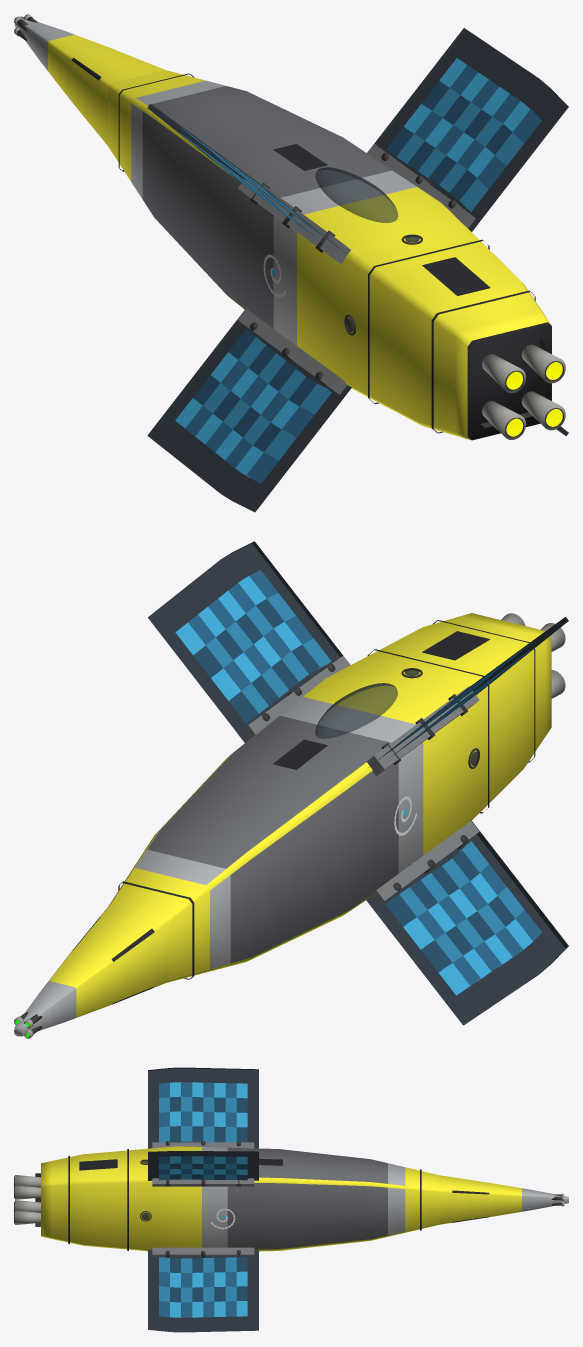
Rendered from Ship_Crosspanel_1.glb.
The picture shows the model from 3 angles, top to bottom: view 1: azimuth 30°, elevation 25°; view 2: azimuth 150°, elevation 25°; view 3: azimuth 270°, elevation 25°; orthographic projection. The views are drawn at different scales.
Visible parts, largest first — view 1: Fuselage_SquareBody, SolarPanelWing_LowerLeftRidge_RectangularPhotovoltaicGrid, SolarPanelWing_TopRightRidge_RectangularPhotovoltaicGrid, Nose_SquareTaperedForwardSection, Canopy_DorsalLowSquareBubble, SolarPanelWing_TopLeftRidge_RootHingeClamp, SolarPanelWing_LowerLeftRidge_RootHingeClamp, SolarPanelWing_TopLeftRidge_RectangularPhotovoltaicGrid, HullAccessPanel_TopAft, SolarPanelWing_TopRightRidge_RootHingeClamp, EngineEmitter, EngineBell_UpperRight_TaperedSquareClusterNozzle (+4 smaller); view 2: Fuselage_SquareBody, SolarPanelWing_LowerLeftRidge_RectangularPhotovoltaicGrid, SolarPanelWing_TopRightRidge_RectangularPhotovoltaicGrid, Nose_SquareTaperedForwardSection, Canopy_DorsalLowSquareBubble, SolarPanelWing_TopLeftRidge_RootHingeClamp, SolarPanelWing_LowerLeftRidge_RootHingeClamp, SolarPanelWing_TopLeftRidge_RectangularPhotovoltaicGrid, SolarPanelWing_TopRightRidge_RootHingeClamp, HullAccessPanel_TopAft, HullAccessPanel_TopForward; view 3: Fuselage_SquareBody, SolarPanelWing_LowerRightRidge_RectangularPhotovoltaicGrid, SolarPanelWing_TopLeftRidge_RectangularPhotovoltaicGrid, Nose_SquareTaperedForwardSection, SolarPanelWing_TopRightRidge_RectangularPhotovoltaicGrid, SolarPanelWing_LowerRightRidge_RootHingeClamp, SolarPanelWing_TopRightRidge_RootHingeClamp, SolarPanelWing_TopLeftRidge_RootHingeClamp, HullAccessPanel_TopAft.
Part boxes in pixels (<box>): Fuselage_SquareBody: <box>108,70,551,440</box>; SolarPanelWing_LowerLeftRidge_RectangularPhotovoltaicGrid: <box>147,309,351,512</box>; SolarPanelWing_TopRightRidge_RectangularPhotovoltaicGrid: <box>374,28,568,231</box>; Nose_SquareTaperedForwardSection: <box>14,16,164,145</box>; Canopy_DorsalLowSquareBubble: <box>315,167,397,222</box>; SolarPanelWing_TopLeftRidge_RootHingeClamp: <box>238,174,350,264</box>; SolarPanelWing_LowerLeftRidge_RootHingeClamp: <box>237,309,347,394</box>; SolarPanelWing_TopLeftRidge_RectangularPhotovoltaicGrid: <box>147,104,348,255</box>; HullAccessPanel_TopAft: <box>422,257,490,295</box>; SolarPanelWing_TopRightRidge_RootHingeClamp: <box>366,143,475,230</box>; EngineEmitter: <box>506,362,562,436</box>; EngineBell_UpperRight_TaperedSquareClusterNozzle: <box>521,344,565,383</box>; Fuselage_SquareBody: <box>108,613,551,982</box>; SolarPanelWing_LowerLeftRidge_RectangularPhotovoltaicGrid: <box>366,820,568,1025</box>; SolarPanelWing_TopRightRidge_RectangularPhotovoltaicGrid: <box>148,541,342,742</box>; Nose_SquareTaperedForwardSection: <box>14,904,168,1036</box>; Canopy_DorsalLowSquareBubble: <box>315,683,397,738</box>; SolarPanelWing_TopLeftRidge_RootHingeClamp: <box>366,686,479,776</box>; SolarPanelWing_LowerLeftRidge_RootHingeClamp: <box>370,821,479,906</box>; SolarPanelWing_TopLeftRidge_RectangularPhotovoltaicGrid: <box>368,617,568,767</box>; SolarPanelWing_TopRightRidge_RootHingeClamp: <box>239,655,350,742</box>; HullAccessPanel_TopAft: <box>422,631,490,660</box>; HullAccessPanel_TopForward: <box>273,739,327,769</box>; Fuselage_SquareBody: <box>41,1146,439,1251</box>; SolarPanelWing_LowerRightRidge_RectangularPhotovoltaicGrid: <box>148,1250,258,1332</box>; SolarPanelWing_TopLeftRidge_RectangularPhotovoltaicGrid: <box>148,1067,258,1148</box>; Nose_SquareTaperedForwardSection: <box>440,1175,568,1224</box>; SolarPanelWing_TopRightRidge_RectangularPhotovoltaicGrid: <box>148,1151,258,1180</box>; SolarPanelWing_LowerRightRidge_RootHingeClamp: <box>152,1247,254,1256</box>; SolarPanelWing_TopRightRidge_RootHingeClamp: <box>152,1178,254,1186</box>; SolarPanelWing_TopLeftRidge_RootHingeClamp: <box>152,1142,254,1148</box>; HullAccessPanel_TopAft: <box>79,1159,117,1170</box>.
Size of the model in its own units: 3.34 by 3.35 by 9.25.
